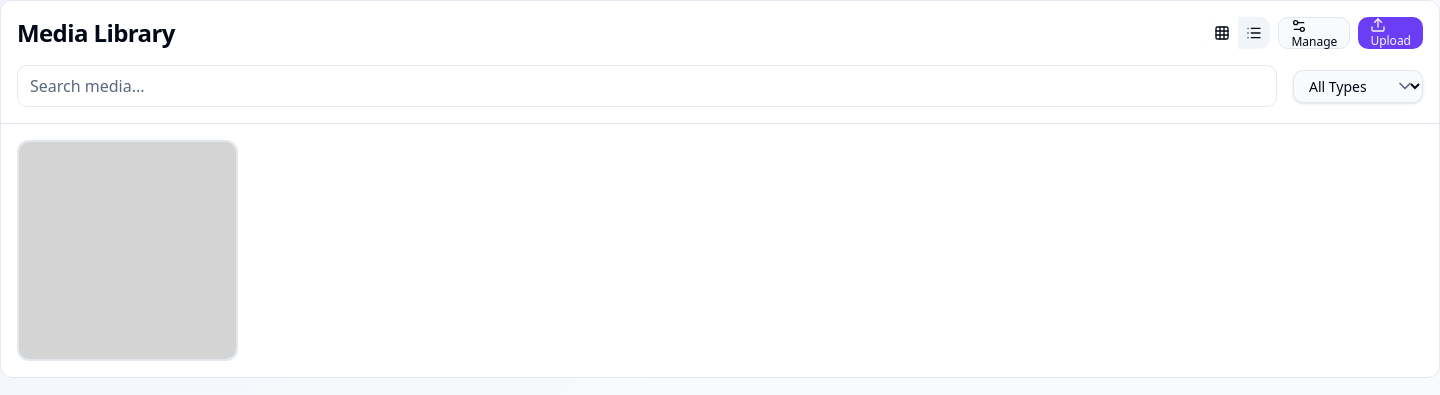
Test: MediaManager manage-mode delete (F-47) › reveals a per-asset delete button only after entering manage mode
Click the button with test id "media-manage-toggle".
click(1314, 33)  # box [1278, 17, 1350, 49]
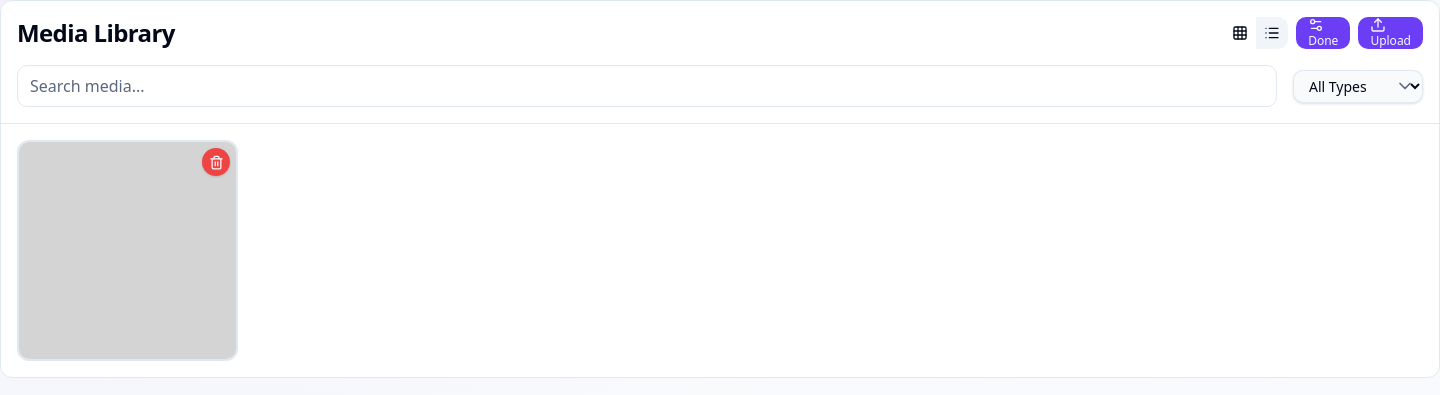
Result: the button with test id "media-delete-asset-1" is shown at [202, 148, 230, 176]
